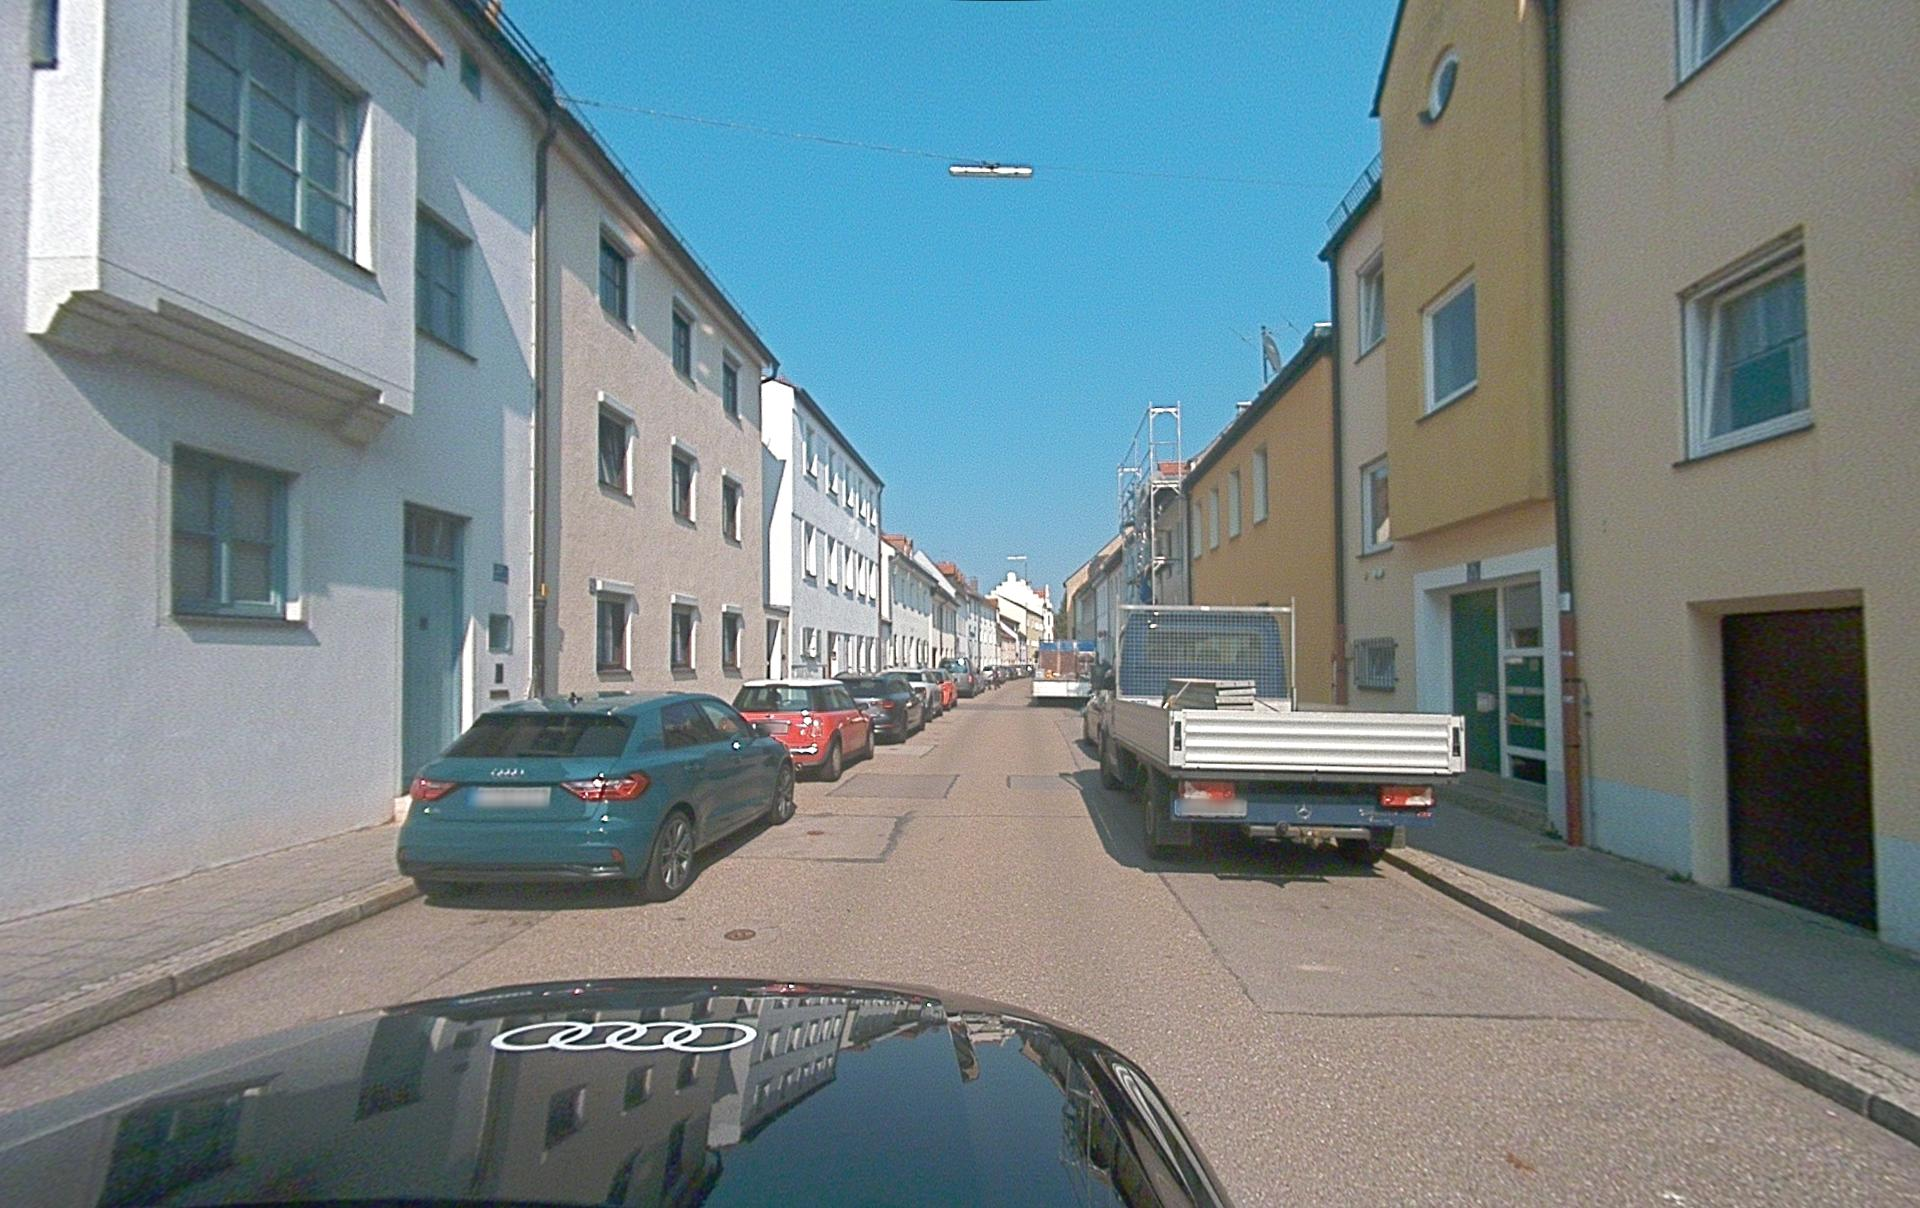car: (1, 975, 1238, 1207), (395, 690, 797, 902), (731, 678, 874, 782), (833, 673, 924, 744), (879, 669, 941, 723), (939, 658, 978, 698), (926, 669, 958, 710)
